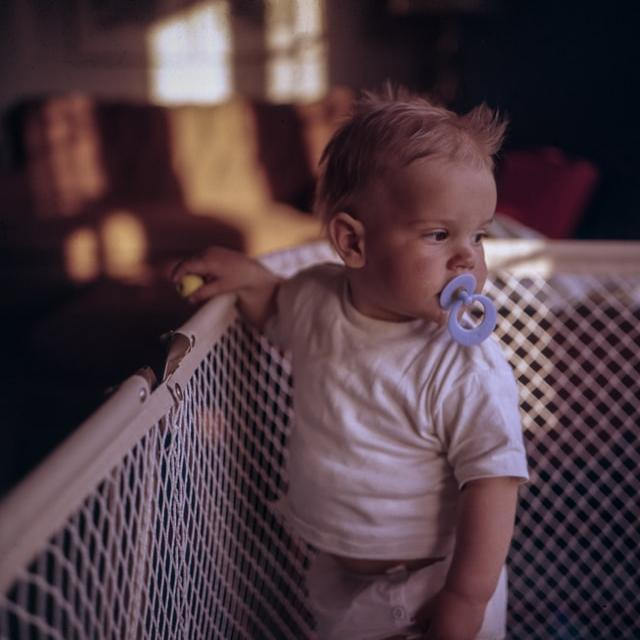non-dog: (179, 94, 528, 640)
